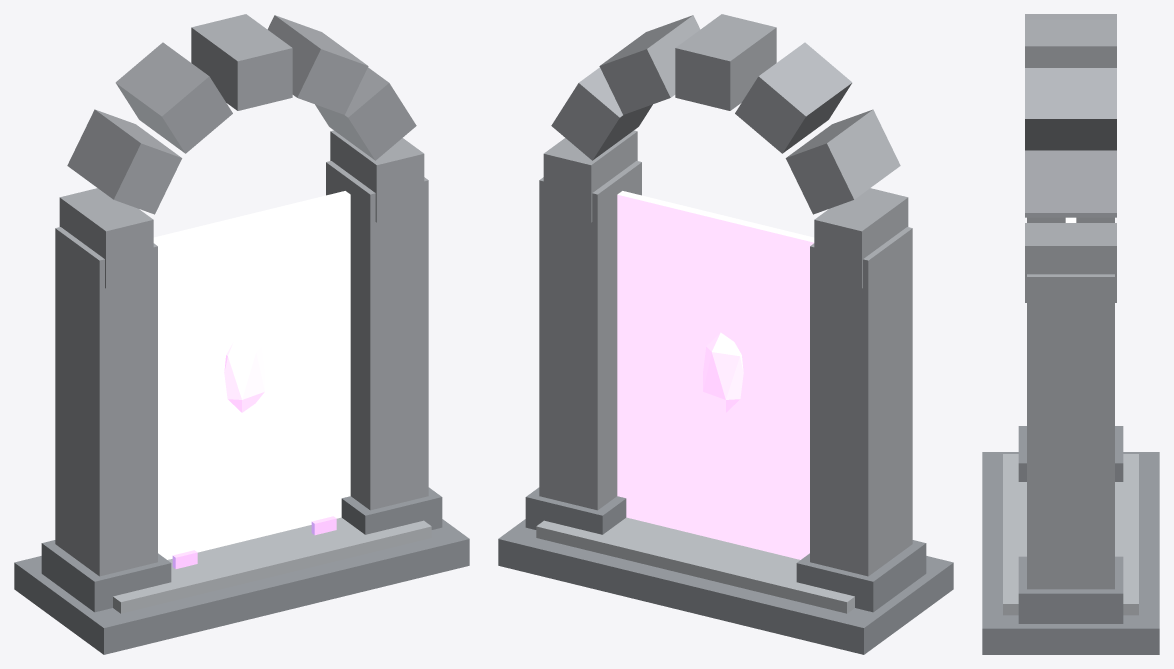
File: portal.glb
The picture shows the model from 3 angles, left to right: view 1: azimuth 30°, elevation 25°; view 2: azimuth 150°, elevation 25°; view 3: azimuth 270°, elevation 25°; orthographic projection.
Visible parts, largest first — view 1: core, pillar.004, pillar.005, step.001, threshold, arch_stone.003, arch_stone.002, arch_stone.001, arch_stone, arch_stone.004, arch_stone.006, arch_stone.005 (+3 smaller); view 2: core, pillar.004, pillar.005, step.001, threshold, arch_stone.003, arch_stone.002, arch_stone.001, arch_stone, arch_stone.004, arch_stone.006, arch_stone.005 (+3 smaller); view 3: pillar.005, step.001, arch_stone.004, threshold, arch_stone.005, arch_stone.006, arch_stone.003, pillar_foot.001, pillar_foot, pillar.004, arch_stone.002.
Boxes of the visible parts, x1,y1,x2,y2 form: core: [153, 191, 350, 559]; pillar.004: [55, 227, 157, 576]; pillar.005: [326, 161, 428, 510]; step.001: [14, 519, 469, 654]; threshold: [113, 517, 431, 613]; arch_stone.003: [191, 14, 292, 110]; arch_stone.002: [115, 42, 232, 153]; arch_stone.001: [67, 109, 182, 214]; arch_stone: [59, 188, 153, 288]; arch_stone.004: [267, 15, 368, 114]; arch_stone.006: [330, 130, 424, 222]; arch_stone.005: [315, 67, 416, 160]; core: [617, 191, 814, 559]; pillar.004: [810, 227, 912, 576]; pillar.005: [539, 161, 641, 510]; step.001: [498, 519, 953, 654]; threshold: [536, 517, 854, 613]; arch_stone.003: [675, 14, 776, 110]; arch_stone.002: [735, 42, 852, 153]; arch_stone.001: [785, 109, 900, 214]; arch_stone: [814, 188, 908, 288]; arch_stone.004: [599, 15, 700, 114]; arch_stone.006: [543, 130, 637, 222]; arch_stone.005: [551, 67, 652, 160]; pillar.005: [1027, 274, 1114, 589]; step.001: [982, 452, 1159, 654]; arch_stone.004: [1025, 68, 1116, 150]; threshold: [1003, 454, 1138, 615]; arch_stone.005: [1025, 150, 1116, 217]; arch_stone.006: [1025, 223, 1116, 302]; arch_stone.003: [1025, 19, 1116, 67]; pillar_foot.001: [1018, 556, 1123, 623]; pillar_foot: [1018, 426, 1123, 481]; pillar.004: [1027, 150, 1114, 222]; arch_stone.002: [1025, 14, 1116, 19].
Bounding box in the file's own units: 2 × 2.82 × 0.85.
